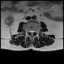CCS_normal: (31, 28, 32, 37)
LFS_stenosis: (34, 29, 36, 34)
LLS_normal: (32, 28, 34, 34)
RFS_stenosis: (27, 28, 29, 34)
RLS_normal: (29, 28, 31, 34)
